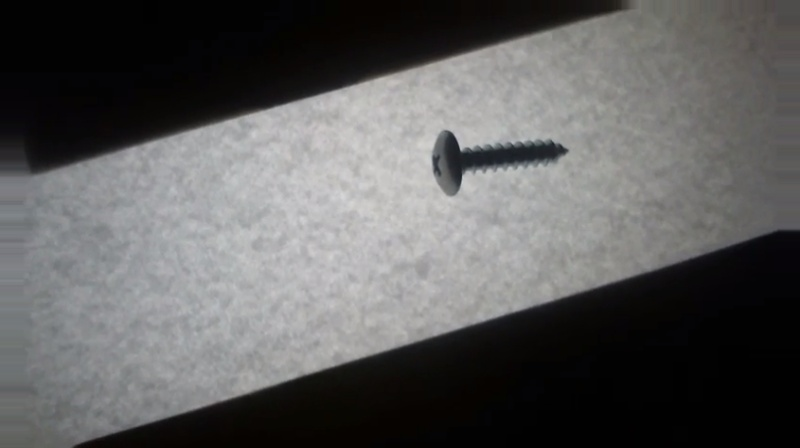S003: (428, 127, 573, 198)
